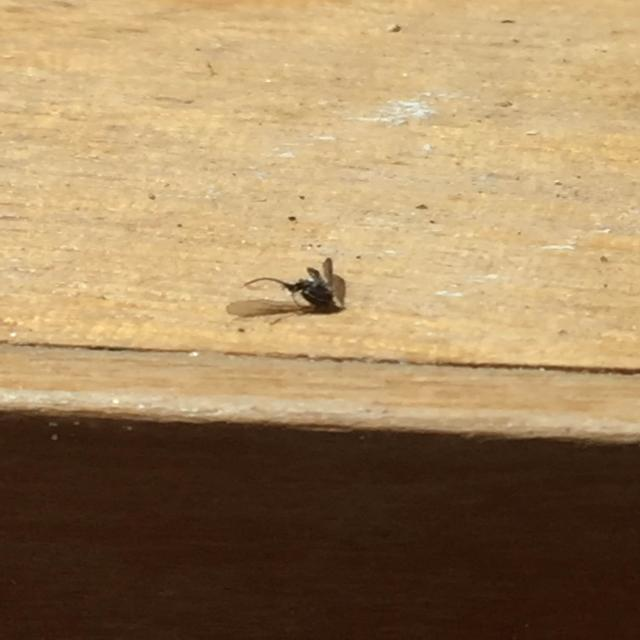albopictus: (234, 254, 350, 317)
